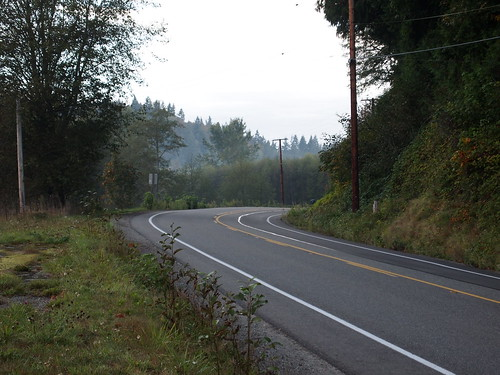grass: (1, 221, 210, 363)
sky: (131, 1, 369, 125)
street: (143, 193, 500, 375)
vegetation: (324, 1, 500, 236), (1, 98, 319, 198)
